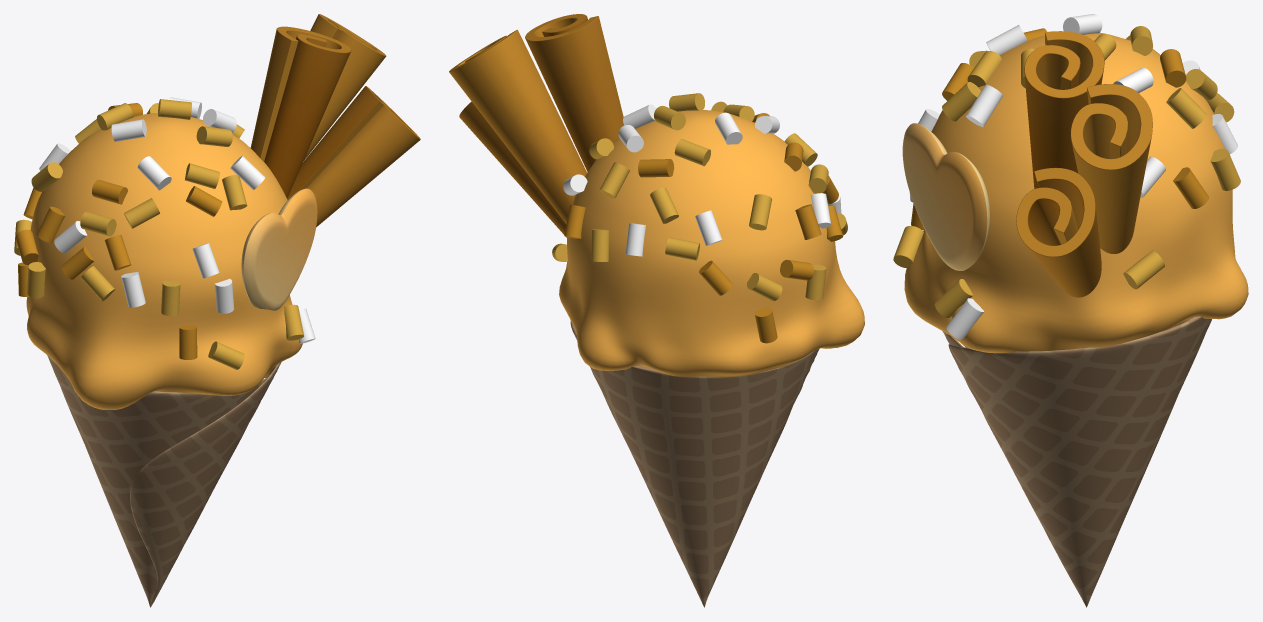
Rendered from Project Name.gltf.
The picture shows the model from 3 angles, left to right: view 1: azimuth 30°, elevation 25°; view 2: azimuth 150°, elevation 25°; view 3: azimuth 270°, elevation 25°; orthographic projection. The views are drawn at different scales.
Visible parts, largest first — view 1: Ice cream, Cone, Cinamon, Sprinkles2, Heart, Sprinkles1, Sprinkles3; view 2: Ice cream, Cone, Cinamon, Sprinkles2, Sprinkles3, Sprinkles1; view 3: Ice cream, Cone, Cinamon, Heart, Sprinkles2, Sprinkles1, Sprinkles3.
Part boxes in pixels (<box>): Ice cream: <box>26,113,302,409</box>; Cone: <box>47,355,281,607</box>; Cinamon: <box>250,14,420,227</box>; Sprinkles2: <box>14,99,303,369</box>; Heart: <box>241,188,317,310</box>; Sprinkles1: <box>39,97,315,343</box>; Sprinkles3: <box>15,103,222,359</box>; Ice cream: <box>559,110,864,376</box>; Cone: <box>570,321,819,607</box>; Cinamon: <box>449,14,624,237</box>; Sprinkles2: <box>552,93,847,301</box>; Sprinkles3: <box>564,113,842,343</box>; Sprinkles1: <box>563,103,841,256</box>; Ice cream: <box>904,32,1248,353</box>; Cone: <box>942,316,1211,607</box>; Cinamon: <box>1016,31,1152,297</box>; Heart: <box>902,123,989,270</box>; Sprinkles2: <box>893,26,1240,317</box>; Sprinkles1: <box>909,14,1237,339</box>; Sprinkles3: <box>911,28,1208,230</box>.
Bounding box in the file's own units: 0.1273 × 0.1794 × 0.0892.
Materials: 7 (3 with a texture image).
